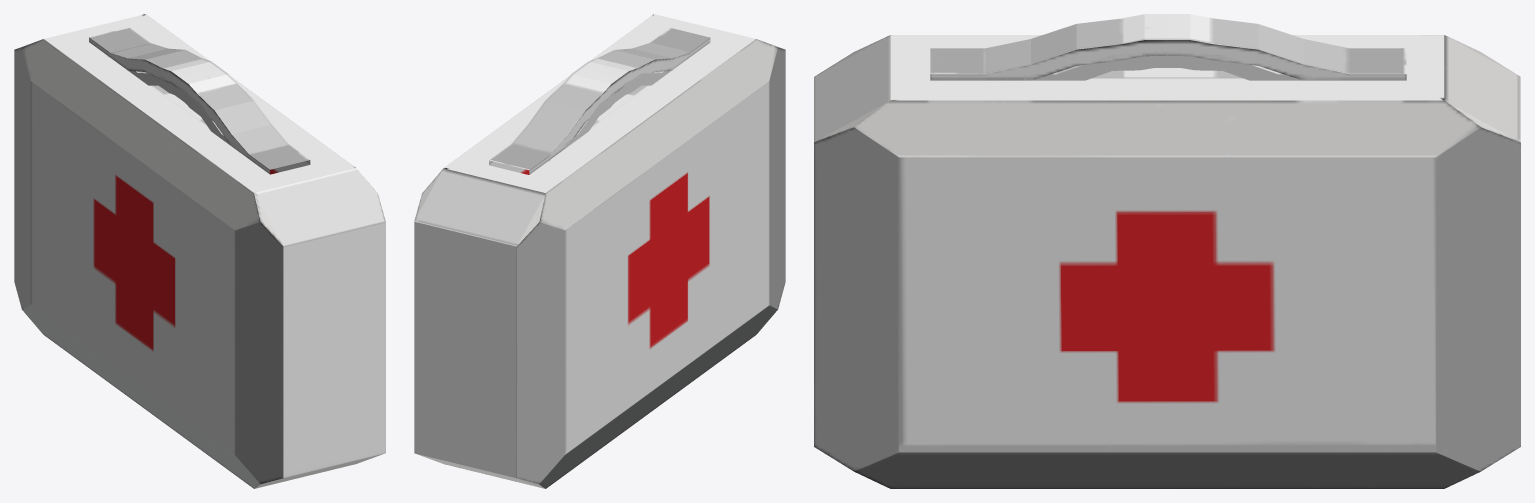
The model's file is medpac_large.fbx.
3 views of the same model, side by side, from view 1: azimuth 30°, elevation 25°; view 2: azimuth 150°, elevation 25°; view 3: azimuth 270°, elevation 25° (orthographic). The views are drawn at different scales.
Visible parts, largest first — view 1: Cube, Cube.001; view 2: Cube, Cube.001; view 3: Cube, Cube.001.
Part boxes in pixels (box(x1,y1,x2,y2)): Cube: box(14, 14, 385, 488); Cube.001: box(129, 71, 234, 148); Cube: box(414, 14, 785, 488); Cube.001: box(565, 71, 670, 148); Cube: box(814, 14, 1520, 488); Cube.001: box(1023, 51, 1311, 80).
Bounding box in the file's own units: 94.98 × 221 × 330.
